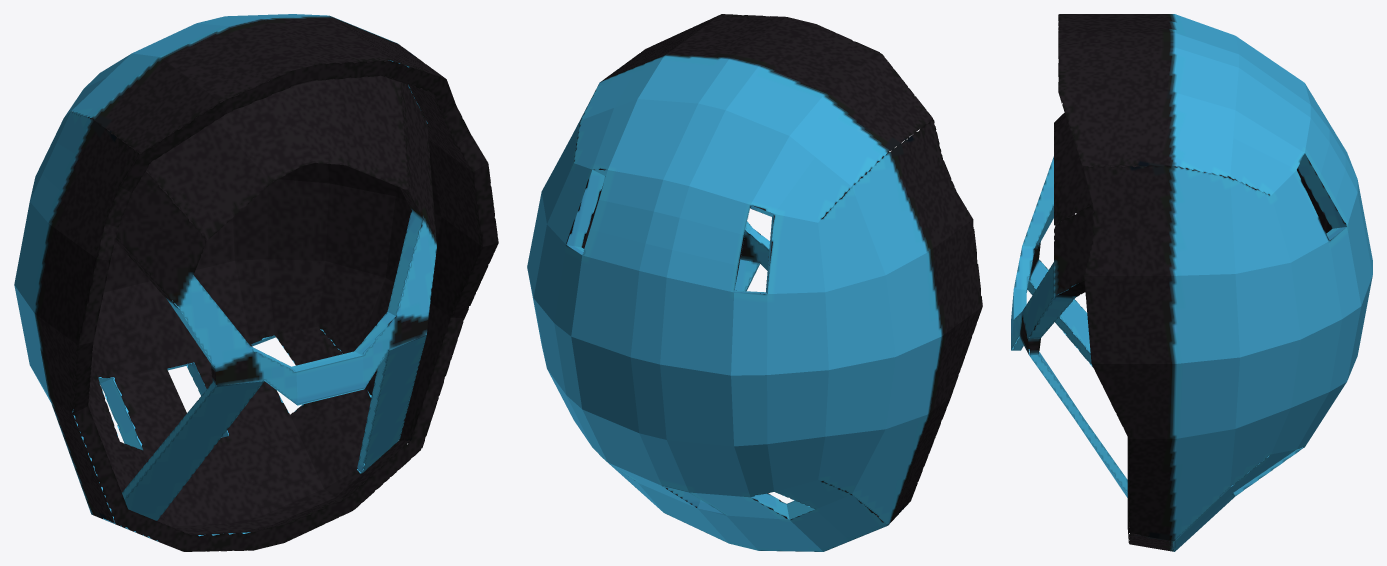
File: HelmetShield_Blue.fbx
3 renders of one model, left to right at view 1: azimuth 30°, elevation 25°; view 2: azimuth 150°, elevation 25°; view 3: azimuth 270°, elevation 25°, orthographic. The views are drawn at different scales.
Parts seen in each view (by area): view 1: helmet shield; view 2: helmet shield; view 3: helmet shield.
Boxes of the visible parts, bbox=[...] form: helmet shield: bbox=[14, 14, 498, 551]; helmet shield: bbox=[527, 14, 982, 551]; helmet shield: bbox=[1011, 14, 1372, 551].
Bounding box in the file's own units: 67.52 × 79.05 × 53.18.
